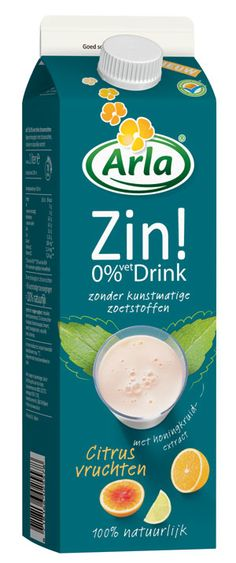Carton: (23, 11, 219, 555)
